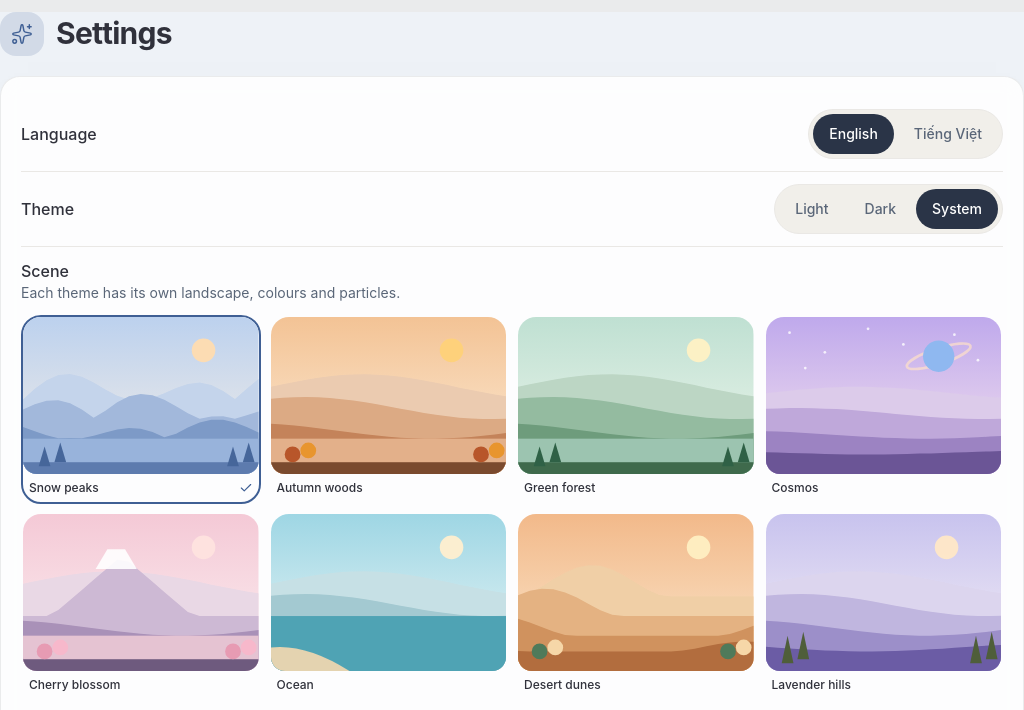
Test case: SettingsPage › switching to Tiếng Việt updates the title immediately
The image size is (1024, 710).
Expected: the heading "Settings" is shown, x1=56 y1=14 x2=172 y2=54
Click the button "Tiếng Việt": [948, 134] box x1=898 y1=114 x2=998 y2=154
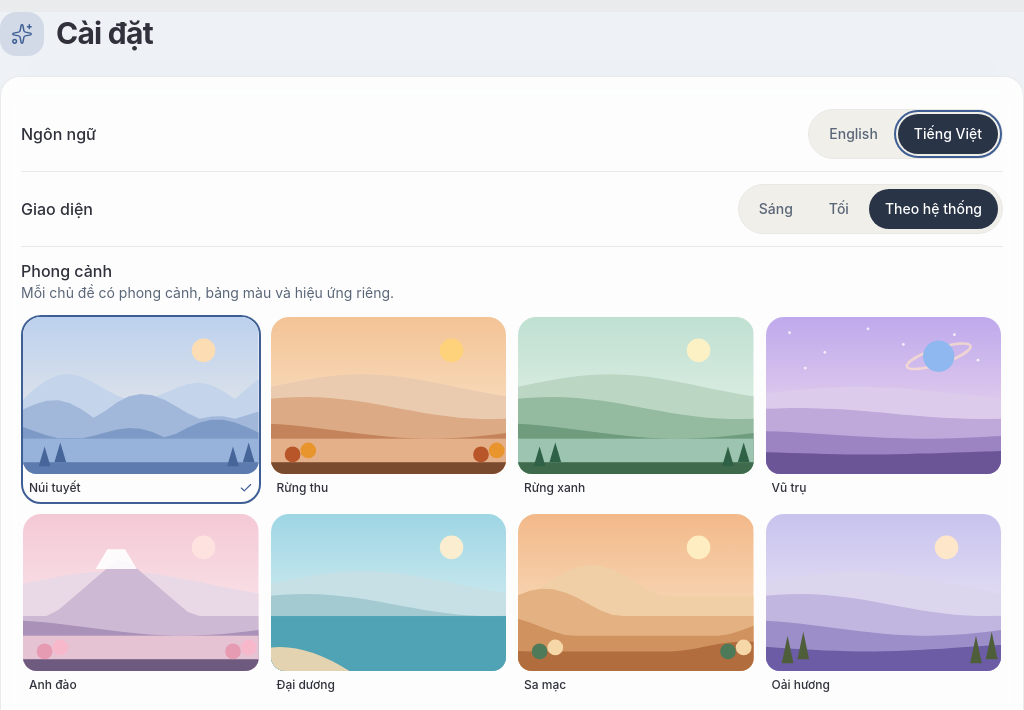
Result: the heading "Cài đặt" is shown at x1=56 y1=14 x2=153 y2=54
